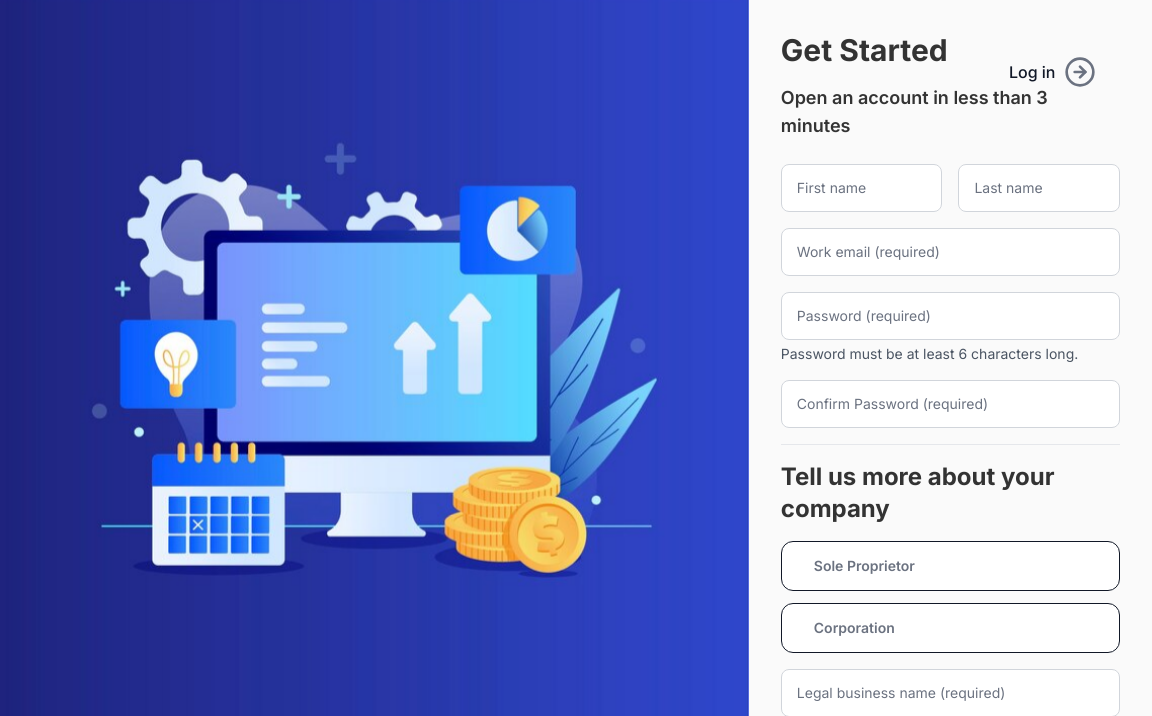
Scenario: SignupForm › displays validation error for short password
In the password field with placeholder "Password (required)": point(950, 316) [781,292,1120,340], type "qwer"
(page scrolled)
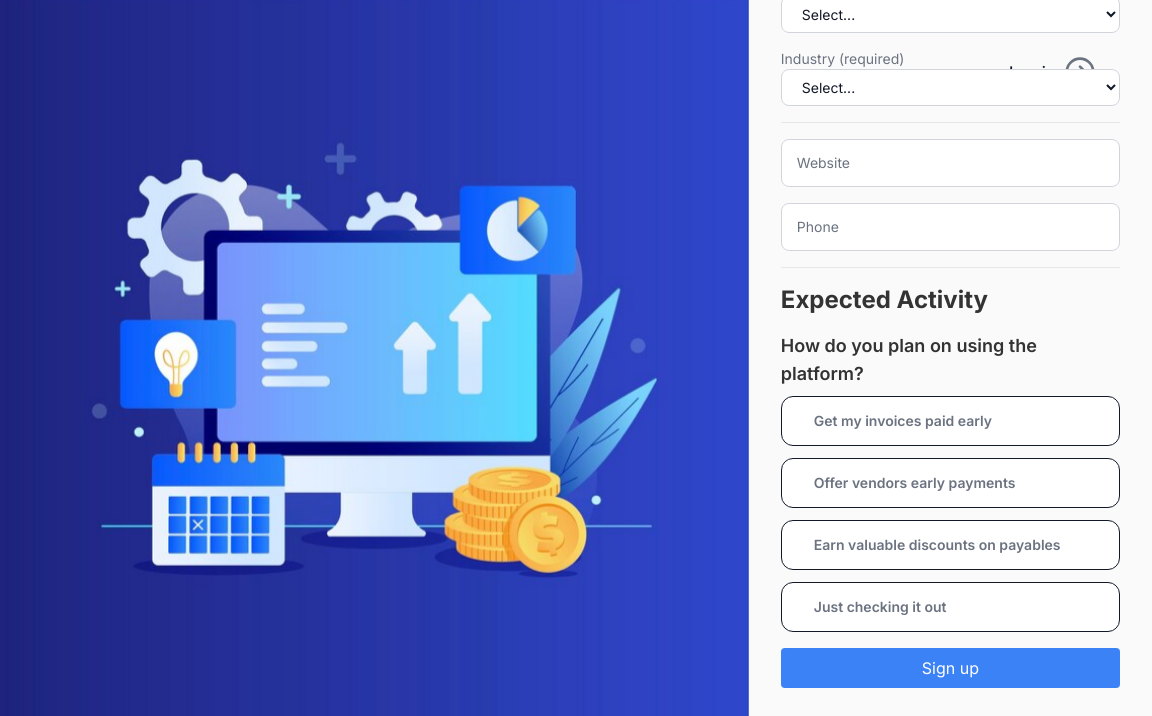
Click the button "Sign up": point(950, 668) [781,648,1120,688]
(page scrolled)
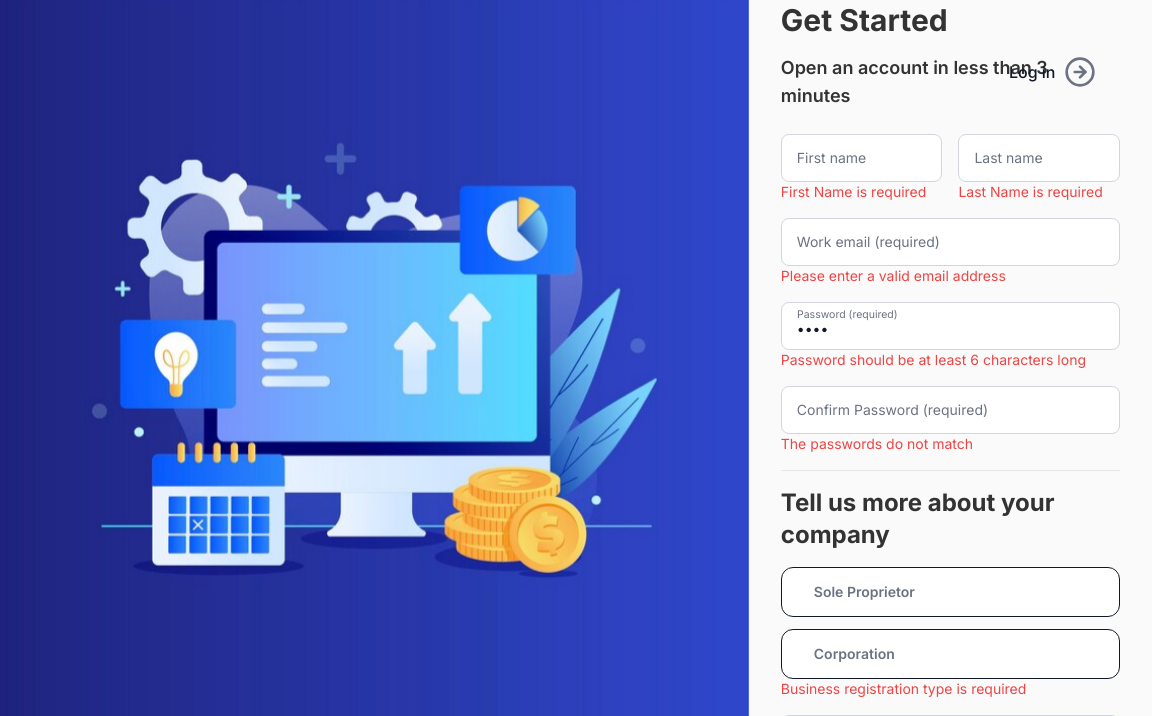
expect the text "Password should be at least 6 characters long" is shown: met, box [781,350,1120,370]
